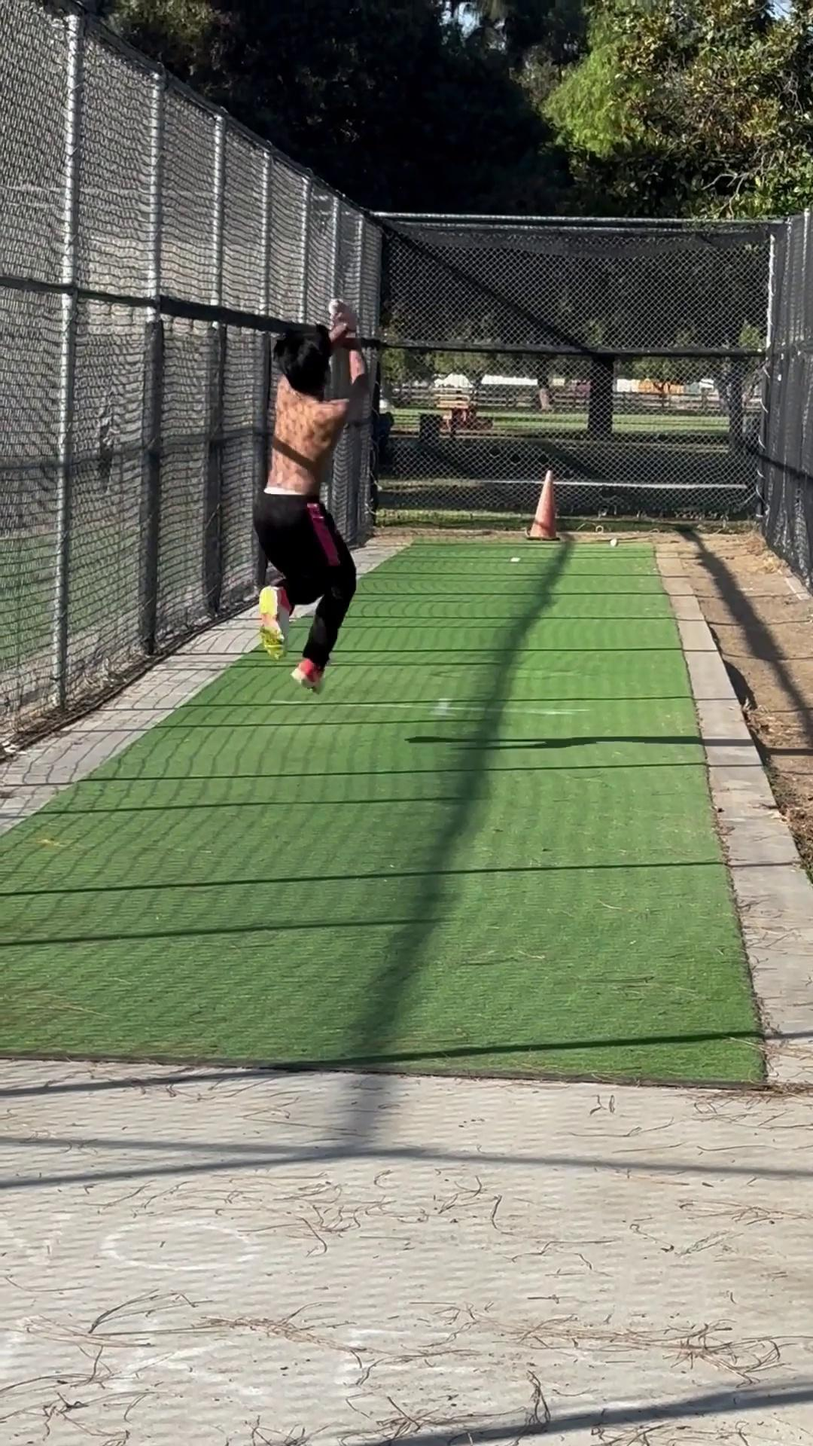ball: (320, 291, 354, 325)
